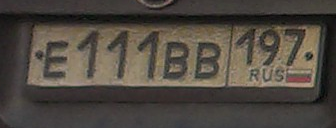character: (103, 29, 133, 80), (75, 28, 103, 80), (133, 30, 161, 82), (162, 37, 191, 79), (194, 39, 223, 81), (43, 40, 71, 79), (282, 25, 307, 68), (234, 27, 258, 67), (259, 25, 281, 68)
